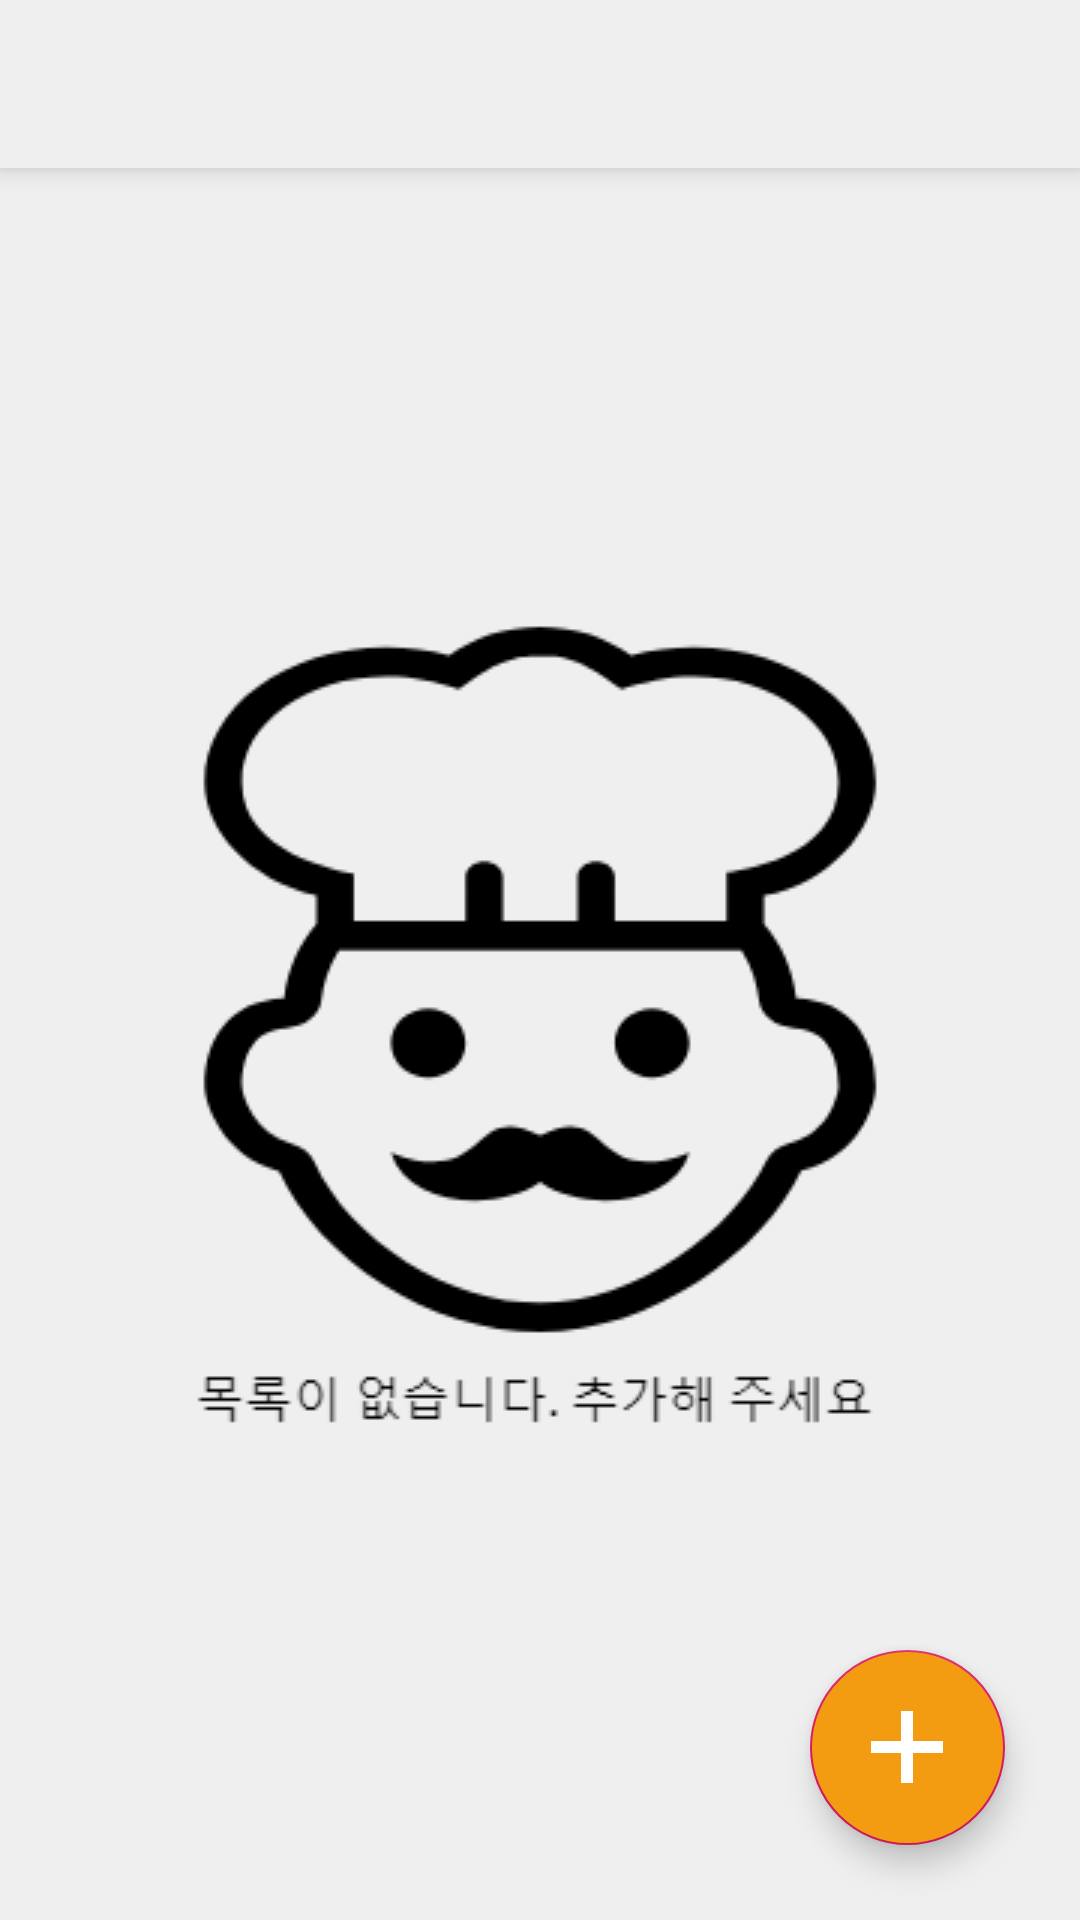

Icon click points for this 1080×1920 phone screenshot, format [x,y]:
add button: [907,1747]
